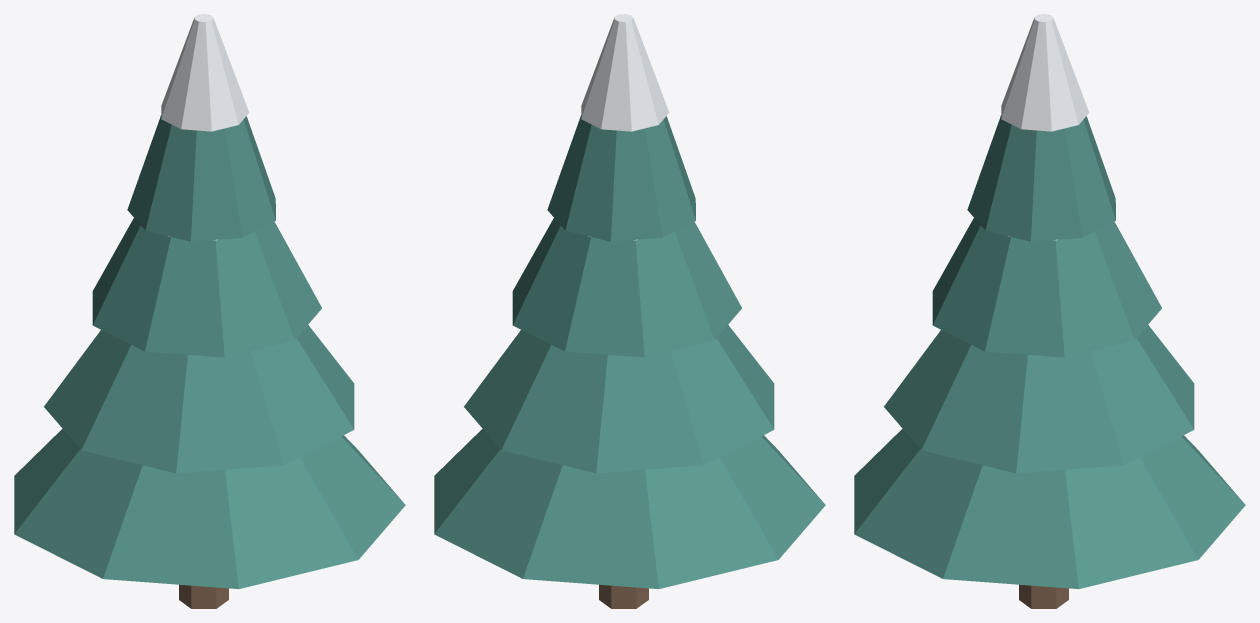
File: pine_a.glb
3 views of the same model, side by side, from view 1: azimuth 30°, elevation 25°; view 2: azimuth 150°, elevation 25°; view 3: azimuth 270°, elevation 25° (orthographic).
Parts seen in each view (by area): view 1: pine_a_mesh; view 2: pine_a_mesh; view 3: pine_a_mesh.
Boxes of the visible parts, left/top/right/bottom form: pine_a_mesh: left=14, top=14, right=405, bottom=608; pine_a_mesh: left=434, top=14, right=825, bottom=608; pine_a_mesh: left=854, top=14, right=1245, bottom=608.
Size of the model in its own units: 2.86 by 4.61 by 2.81.
